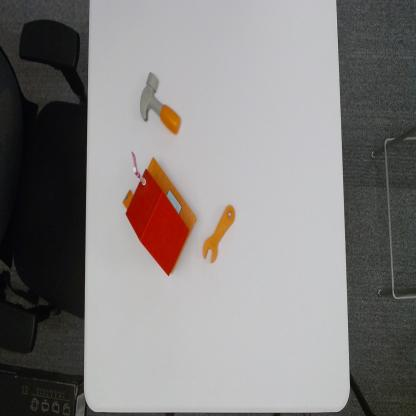Hammer: (139, 71, 183, 137)
House: (123, 149, 198, 278)
Screwdriver: (201, 204, 237, 264)
